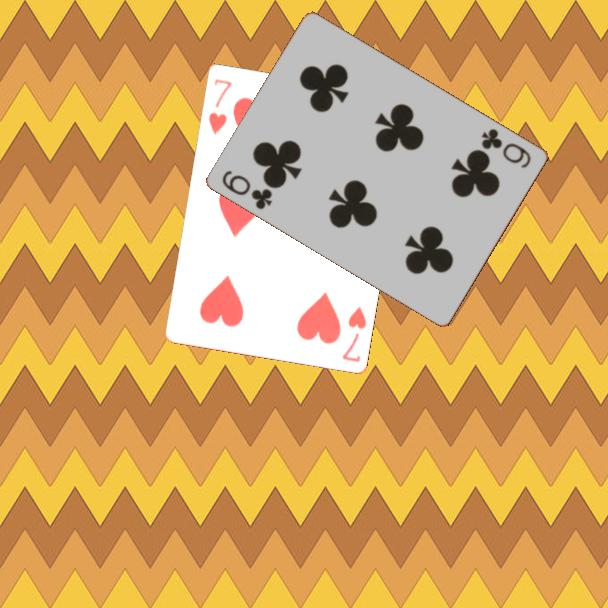c06: (478, 125, 534, 171), (219, 167, 276, 212)
h07: (339, 302, 369, 365), (205, 75, 235, 137)
